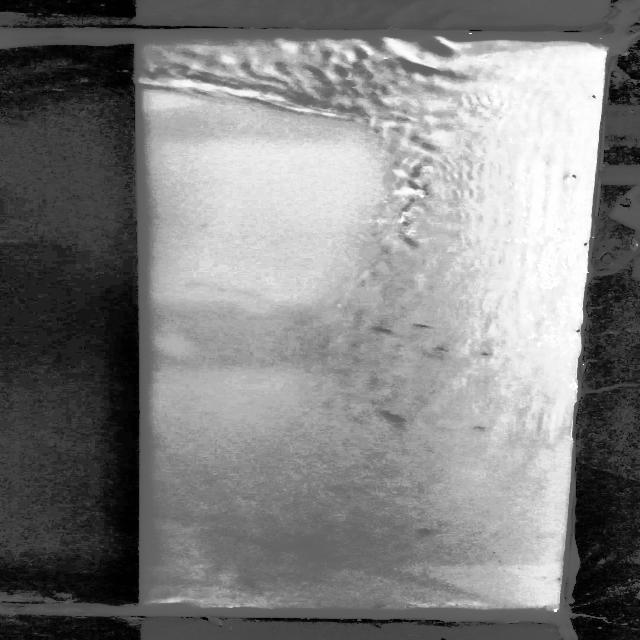shrimp: (376, 406, 412, 423), (368, 323, 402, 338), (412, 321, 446, 334), (430, 342, 466, 353)
